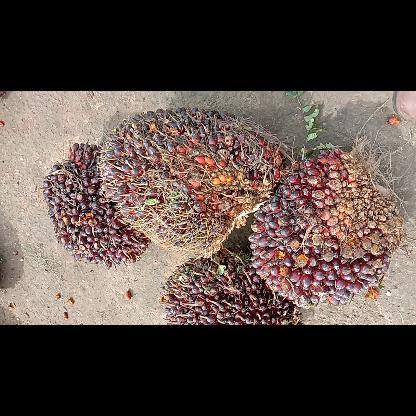Kurang masak: (95, 106, 291, 258), (248, 144, 402, 306), (43, 142, 150, 268), (159, 248, 301, 324)
